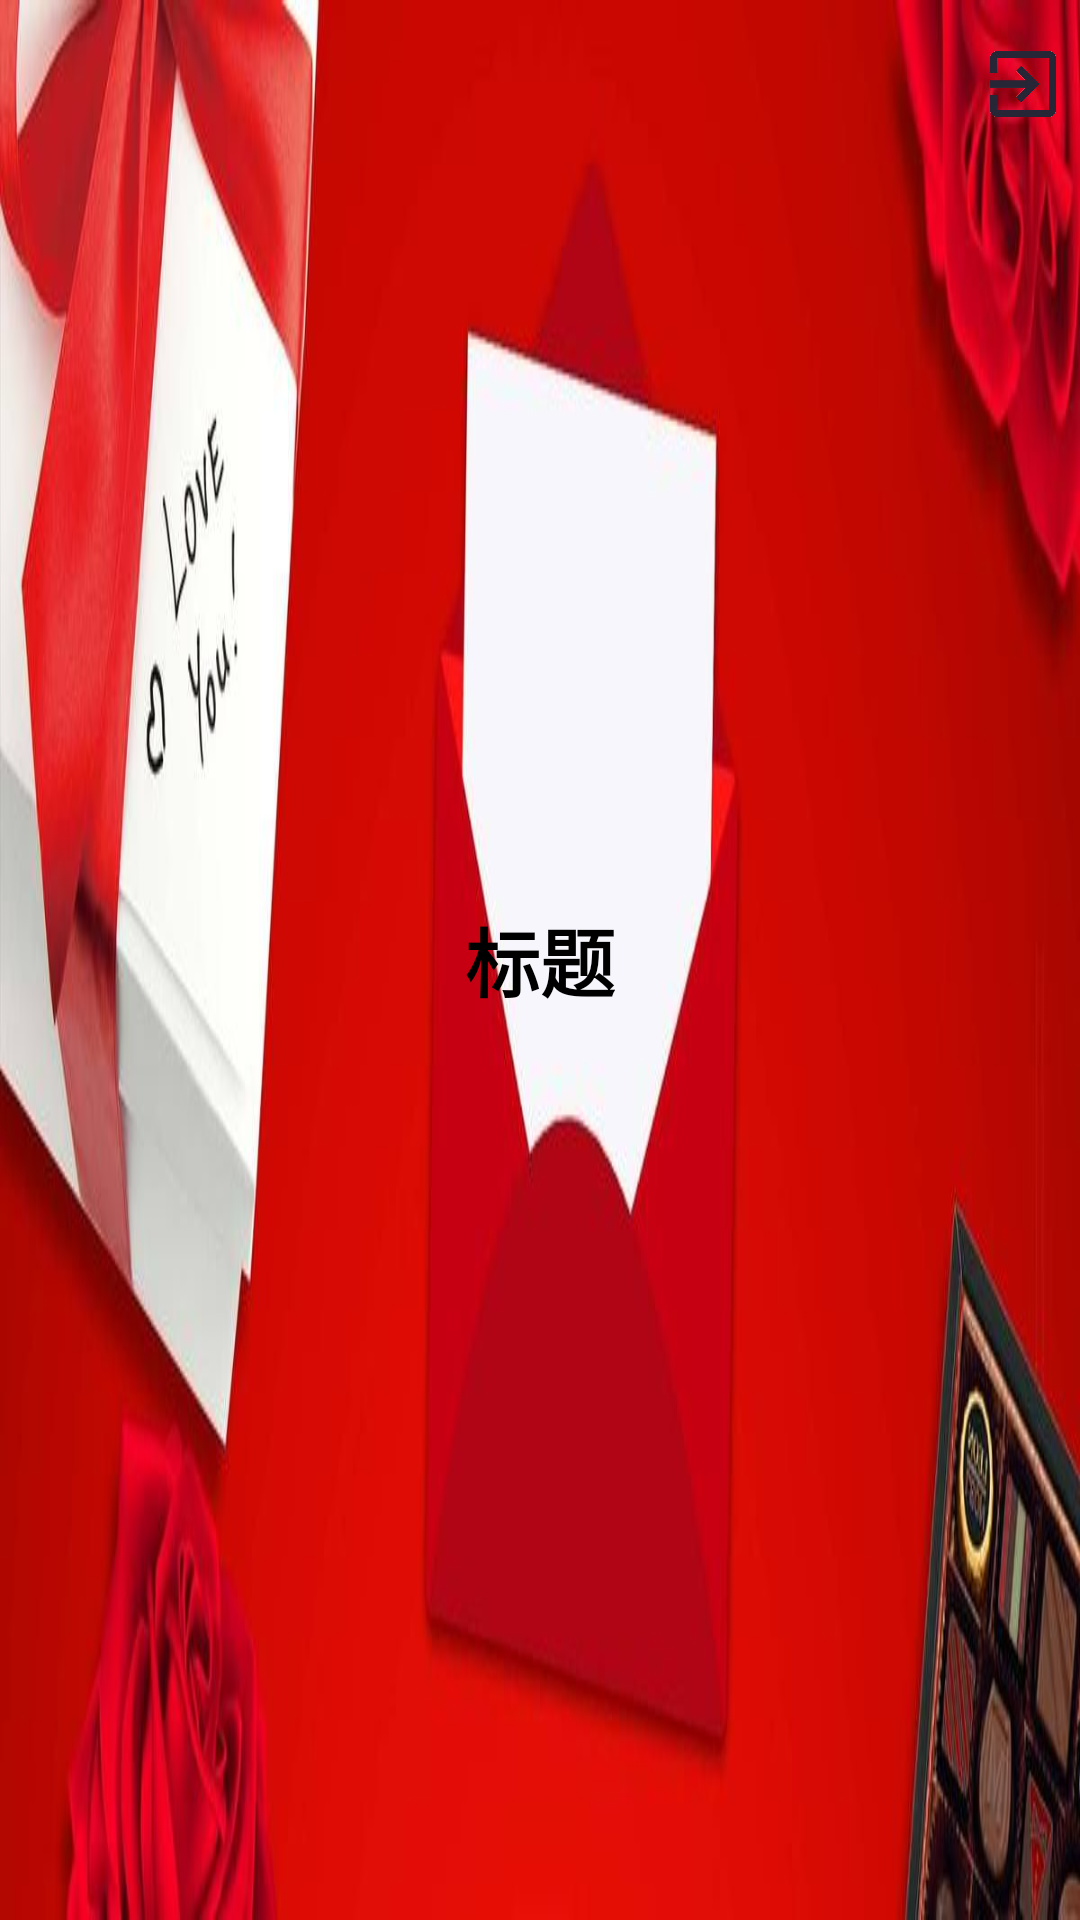

Point at icon controls on the screen. Image size 1080*1920, points as point (x, y).
exitbutton: point (1023, 84)
